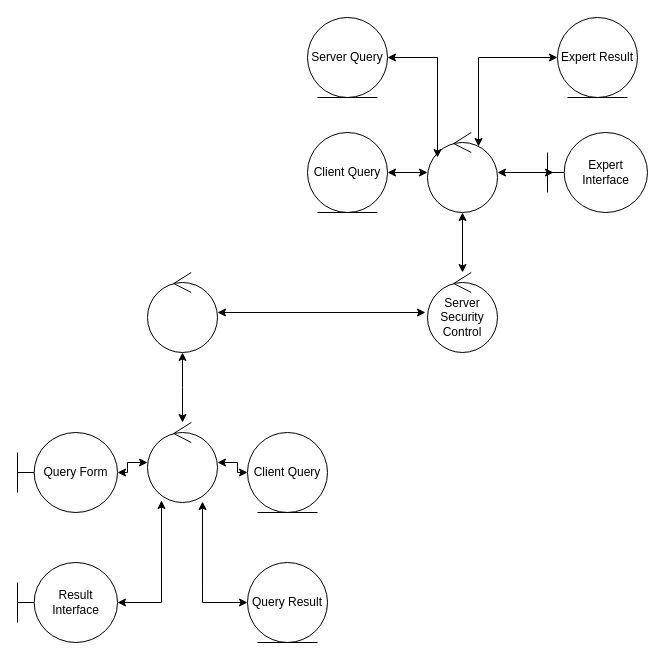
This 665x660 diagram has some shape labels left out. The shapes that lost their labels are listed below. From the top down, each one's centre as x and y in pixels, then its label:
At (462,172): "Server Control".
At (182,312): "Client Security Control".
At (182,462): "Client Control".
